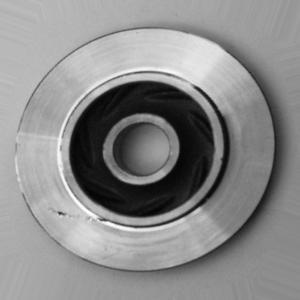crack: (40, 204, 123, 226)
scratch: (47, 120, 84, 191)
unpolished_casting: (12, 25, 278, 274)
